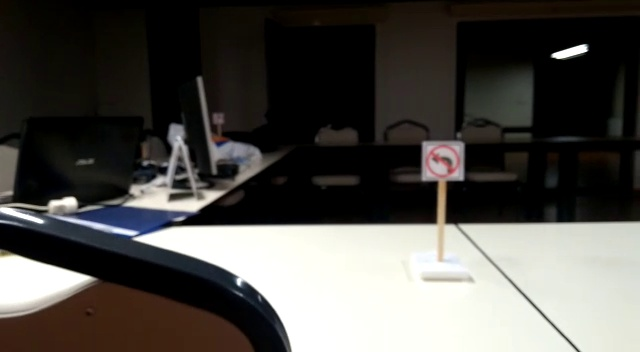sola_donulmez: (422, 141, 465, 181)
